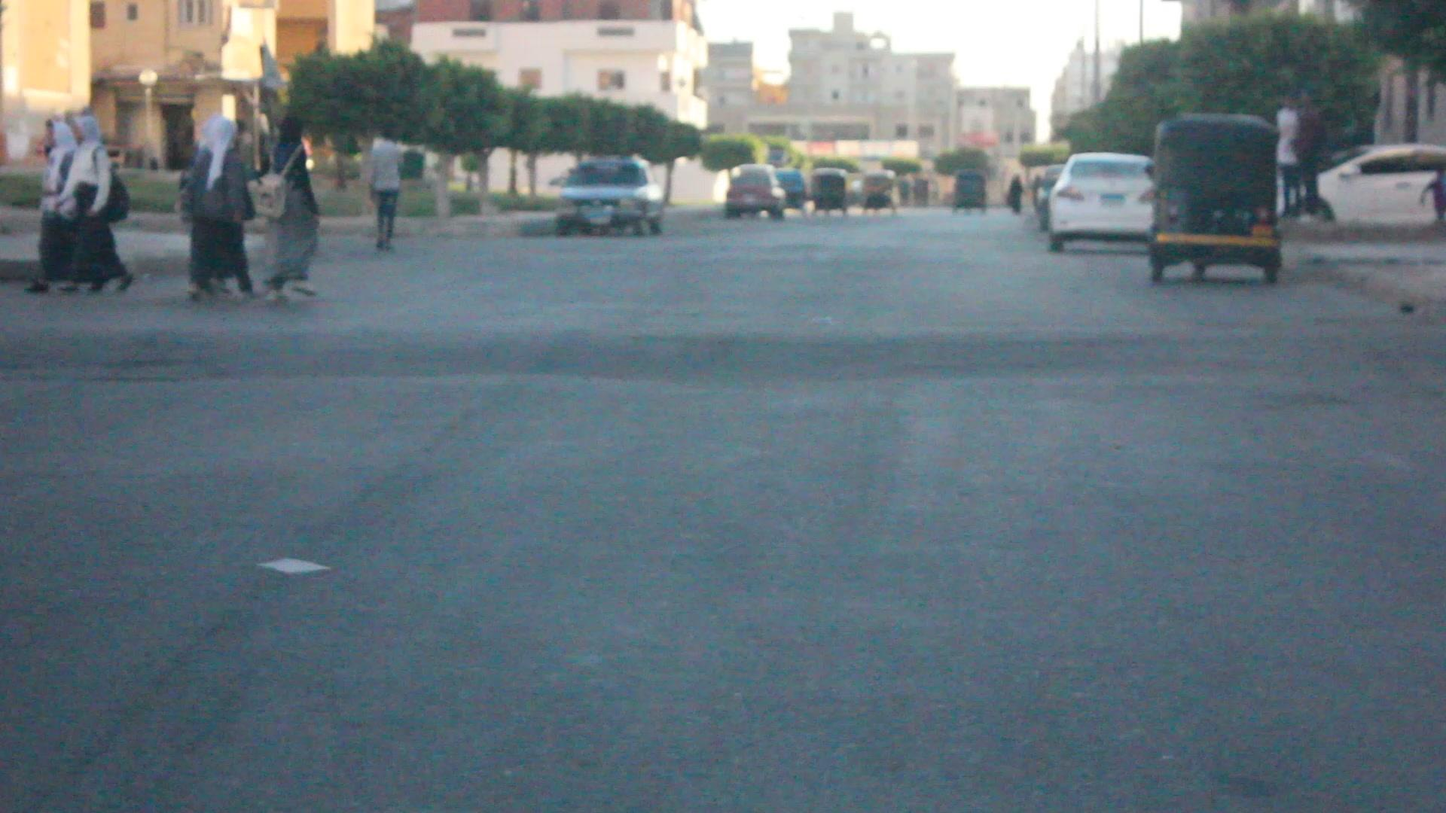Bump: (0, 301, 1446, 414)
